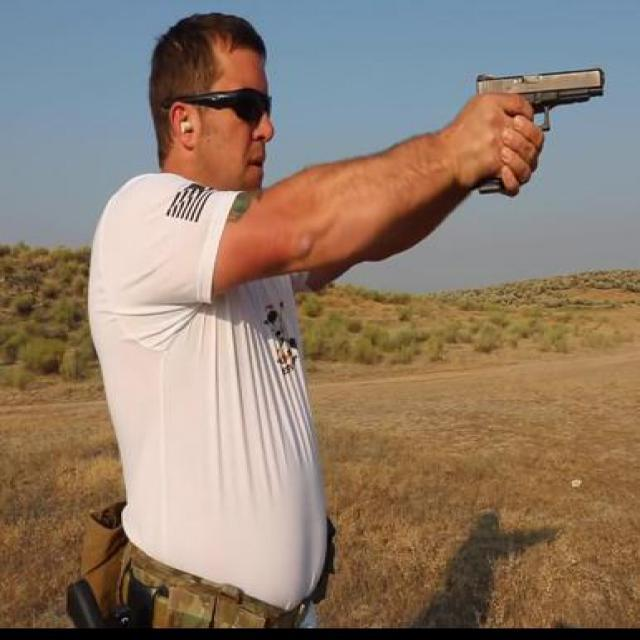gun: (469, 61, 605, 192)
